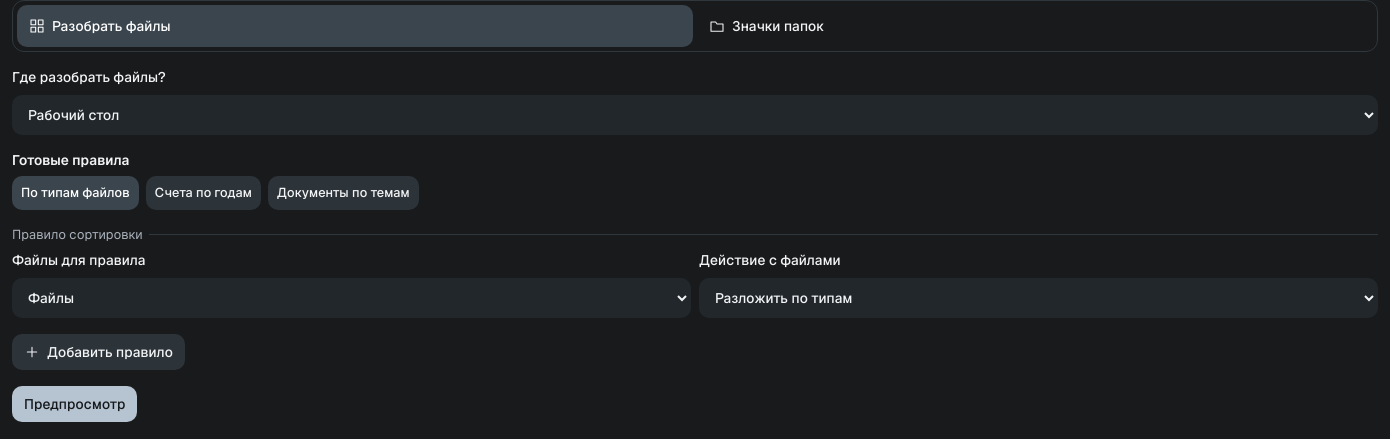
Test case: opens the native folder picker directly and reports the changed folder
Click the button "Значки папок".
click(778, 26)  # box top-left (697, 5), bottom-right (1373, 47)
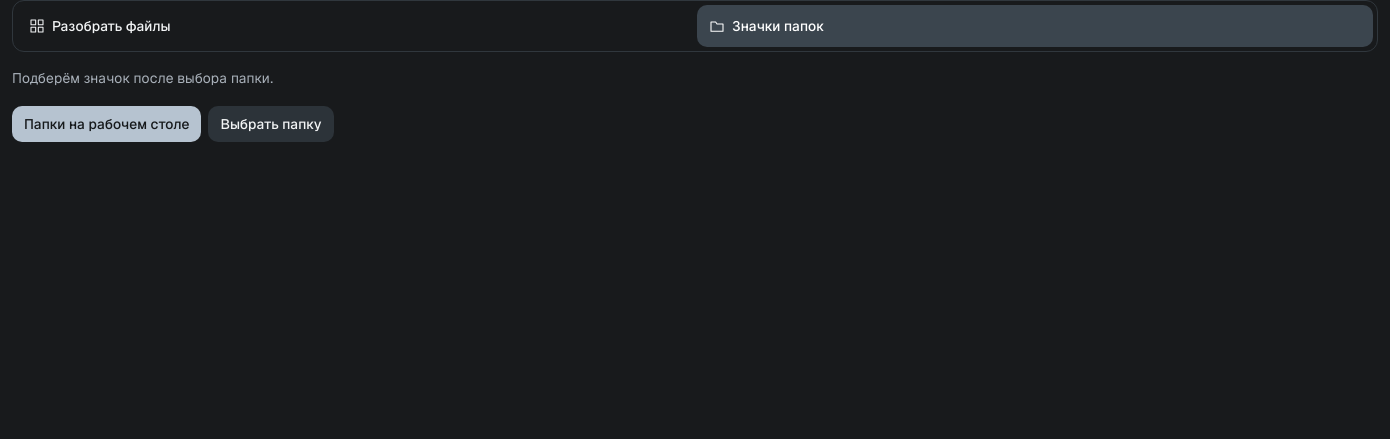
Click the button "Выбрать папку".
click(271, 124)  # box top-left (208, 106), bottom-right (334, 142)
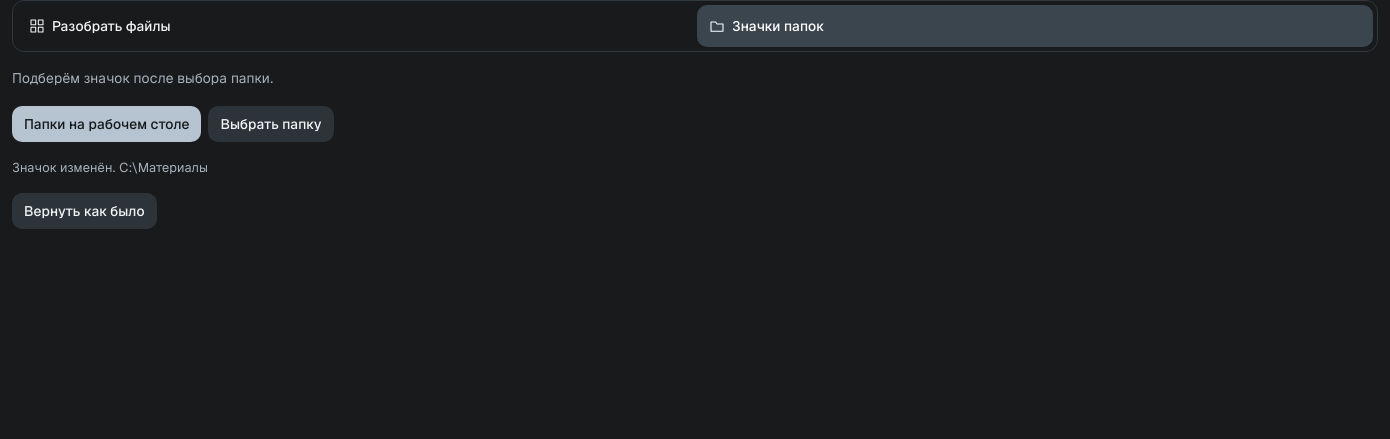
Now the text "Значок изменён. C:\\Материалы" is shown, box top-left (12, 159), bottom-right (208, 176)
